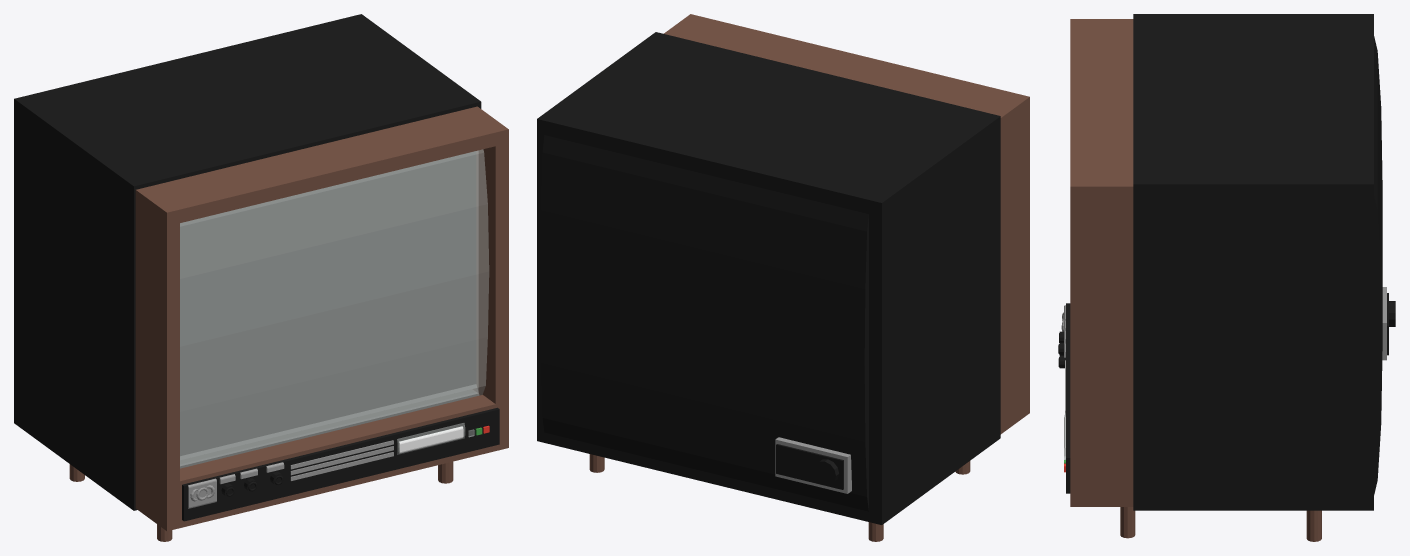
3 views of the same model, side by side, from view 1: azimuth 30°, elevation 25°; view 2: azimuth 150°, elevation 25°; view 3: azimuth 270°, elevation 25° (orthographic).
Visible parts, largest first — view 1: group693330270, group1626004127, group1832607466, group1410419148, group684330329, group1085757518, group970267179, group2129653897, group1004929428; view 2: group1644547169, group693330270, group1085757518, group684330329, group329165408, group954181115; view 3: group693330270, group2129653897, group684330329, group1644547169, group970267179, group1291801872, group1365676106.
Part boxes in pixels (x1=…): group693330270: x1=14, y1=14, x2=481, y2=510; group1626004127: x1=180, y1=149, x2=488, y2=468; group1832607466: x1=180, y1=151, x2=478, y2=465; group1410419148: x1=180, y1=151, x2=475, y2=459; group684330329: x1=135, y1=109, x2=506, y2=223; group1085757518: x1=135, y1=196, x2=179, y2=530; group970267179: x1=180, y1=394, x2=499, y2=521; group2129653897: x1=465, y1=106, x2=508, y2=403; group1004929428: x1=167, y1=395, x2=508, y2=531; group1644547169: x1=540, y1=135, x2=868, y2=511; group693330270: x1=537, y1=32, x2=1000, y2=524; group1085757518: x1=1000, y1=104, x2=1029, y2=434; group684330329: x1=677, y1=17, x2=1029, y2=123; group329165408: x1=776, y1=444, x2=843, y2=489; group954181115: x1=775, y1=437, x2=851, y2=493; group693330270: x1=1133, y1=14, x2=1373, y2=510; group2129653897: x1=1070, y1=180, x2=1133, y2=506; group684330329: x1=1070, y1=19, x2=1133, y2=200; group1644547169: x1=1374, y1=36, x2=1382, y2=494; group970267179: x1=1066, y1=303, x2=1070, y2=493; group1291801872: x1=1306, y1=510, x2=1321, y2=541; group1365676106: x1=1120, y1=507, x2=1135, y2=538.
Size of the model in its own units: 1.86 by 1.88 by 1.56.
